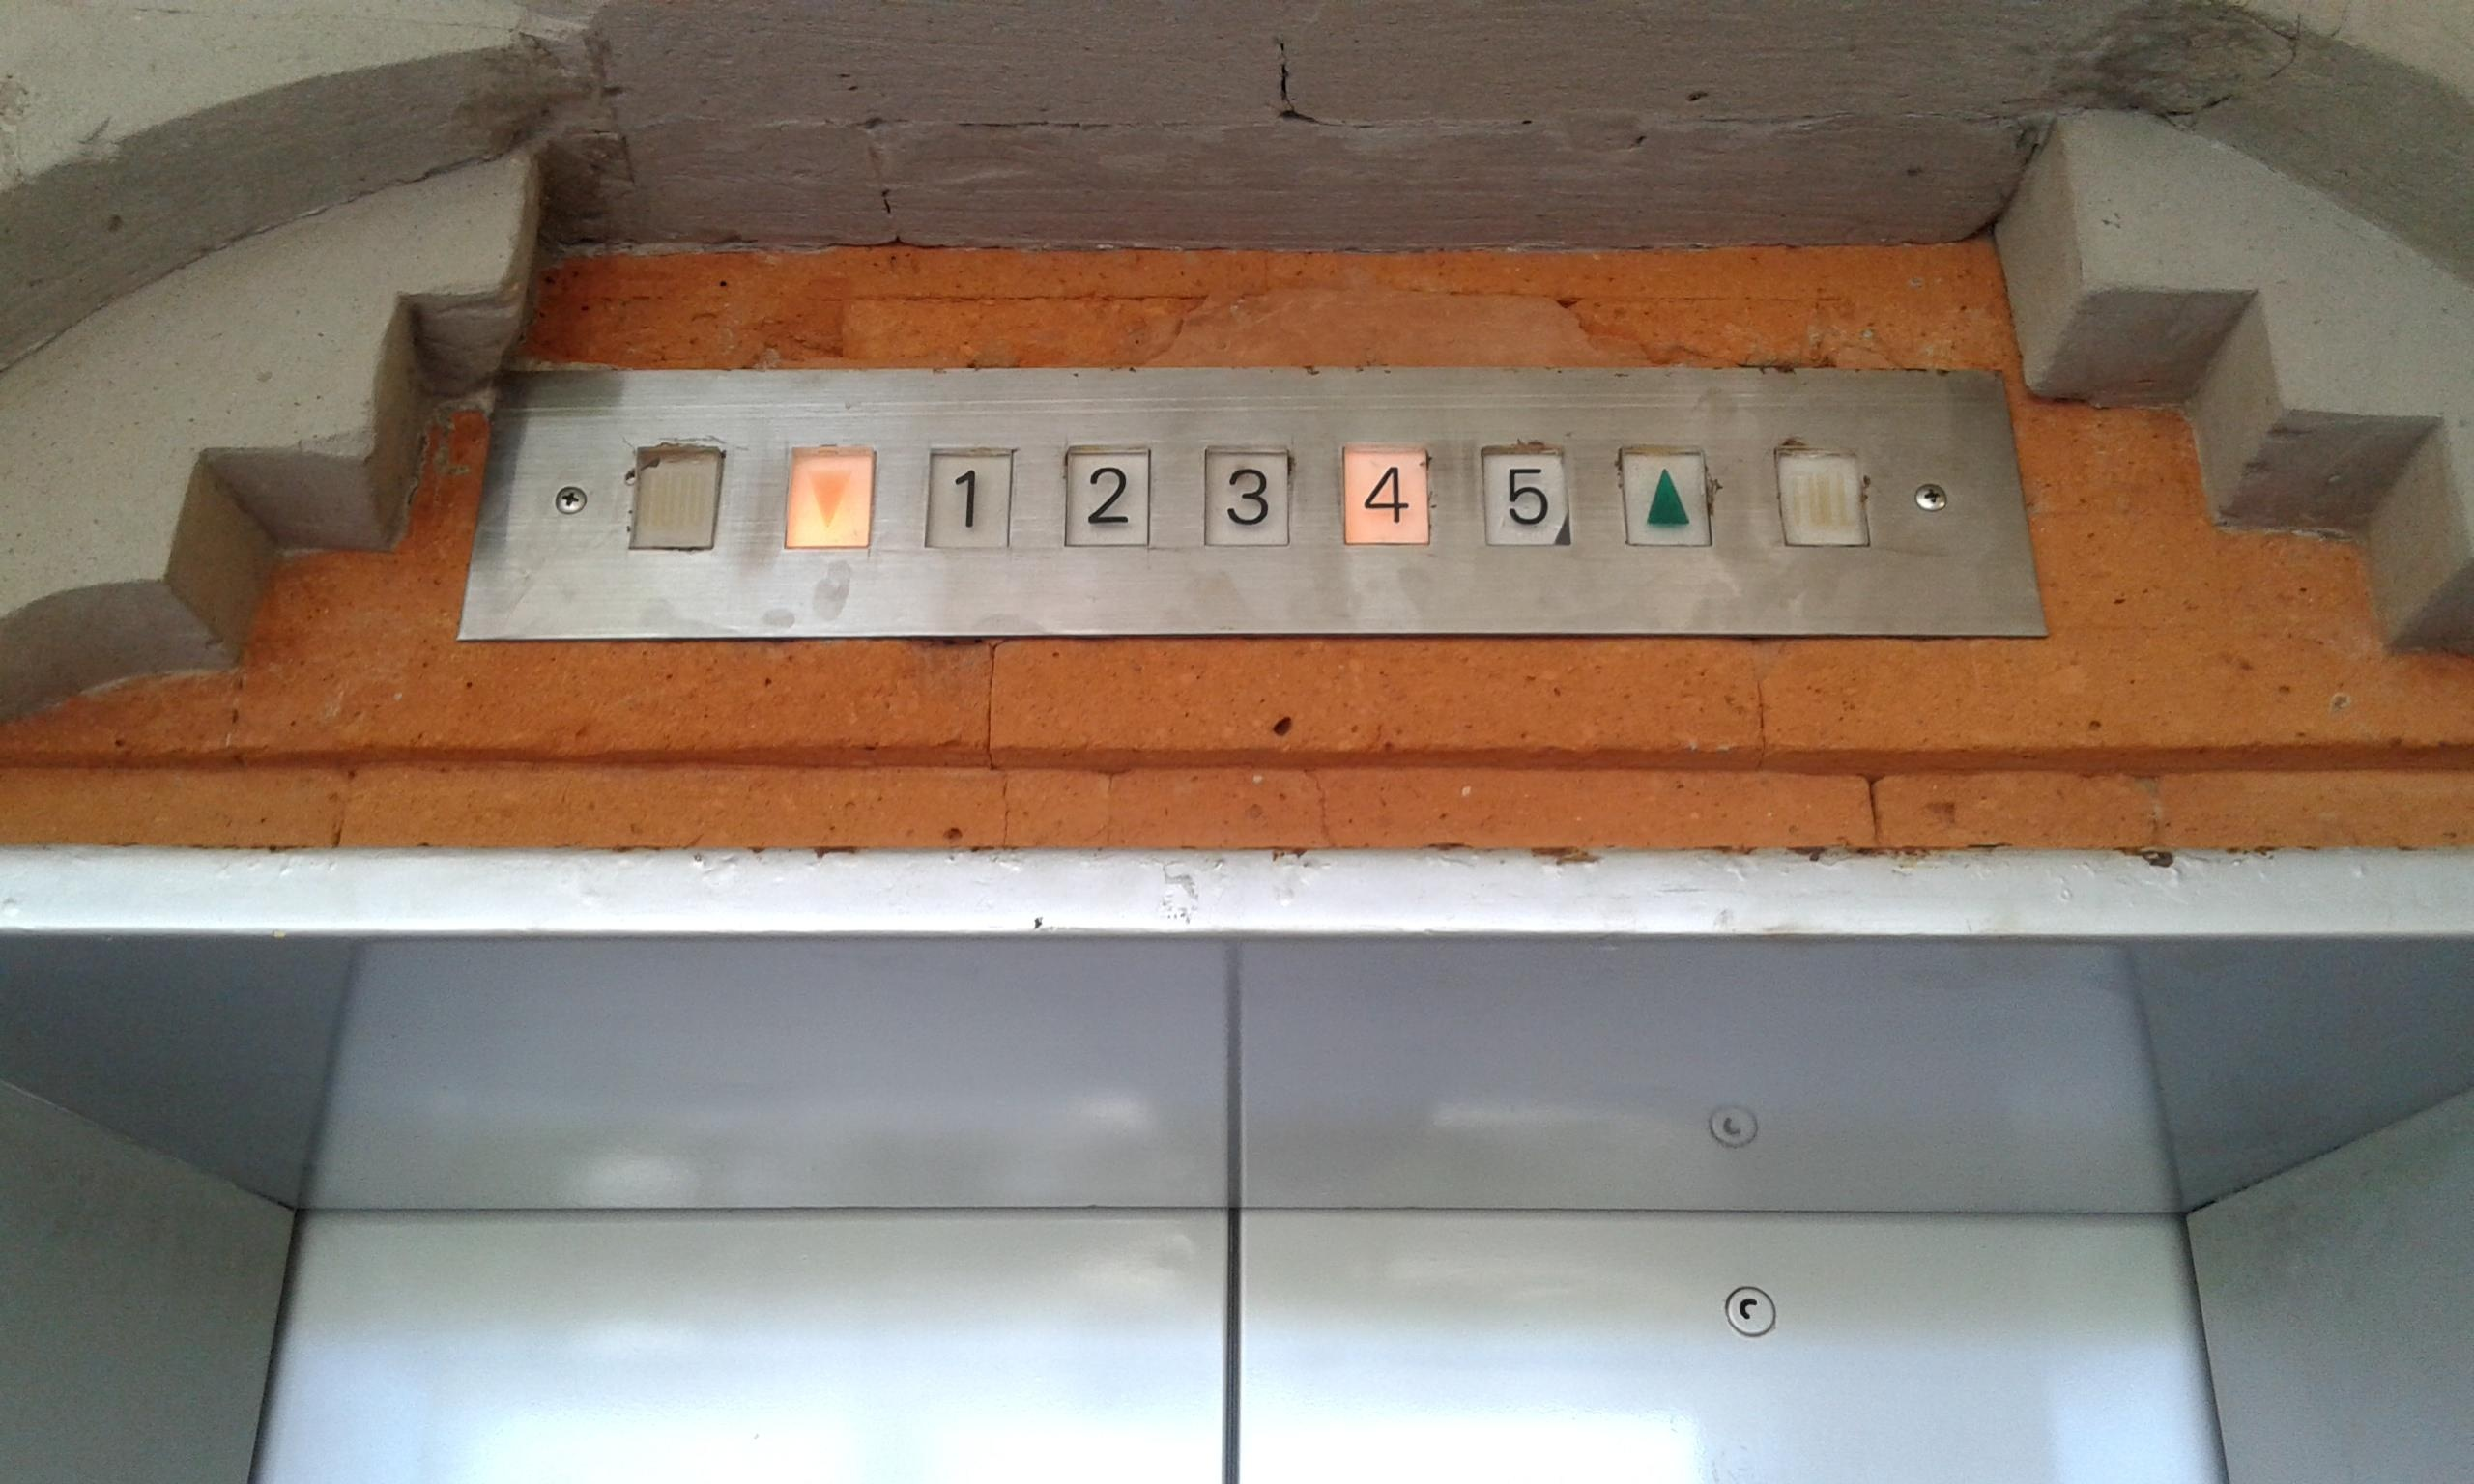1: (921, 447, 1016, 553)
2: (1057, 443, 1154, 551)
3: (1198, 445, 1294, 549)
4: (1338, 438, 1431, 548)
5: (1476, 445, 1573, 551)
blur: (1774, 447, 1871, 548)
down: (779, 443, 880, 553)
empty: (627, 442, 728, 551)
up: (1617, 447, 1714, 548)
